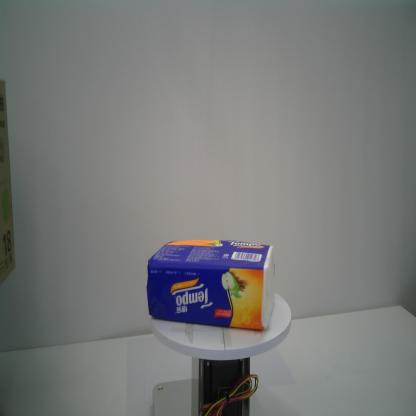Tissue: (146, 238, 277, 332)
